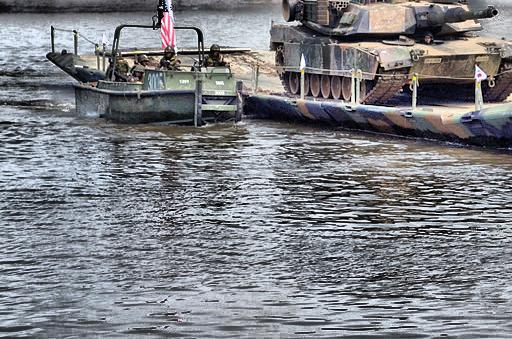tanks: (271, 1, 512, 106)
